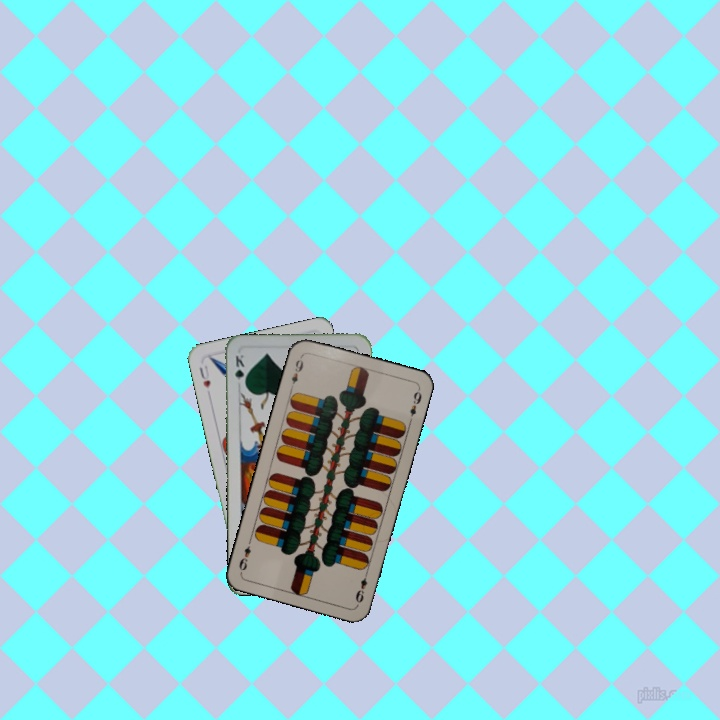E9: (286, 352, 306, 392), (351, 567, 371, 605)
GK: (231, 351, 248, 390)
HU: (195, 361, 213, 391)
